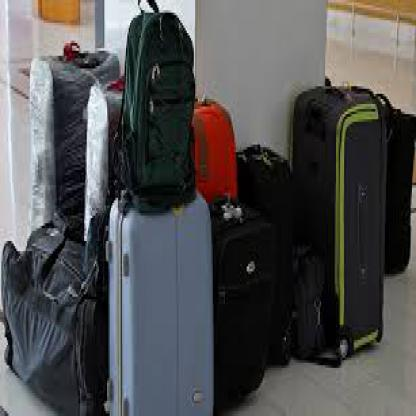maleta: (94, 185, 222, 414), (288, 81, 390, 360), (20, 38, 124, 246), (1, 226, 114, 413), (226, 132, 304, 358), (205, 177, 278, 406), (78, 59, 132, 262), (366, 78, 415, 286), (190, 81, 244, 216), (280, 236, 332, 370)
morral: (106, 3, 220, 246)
